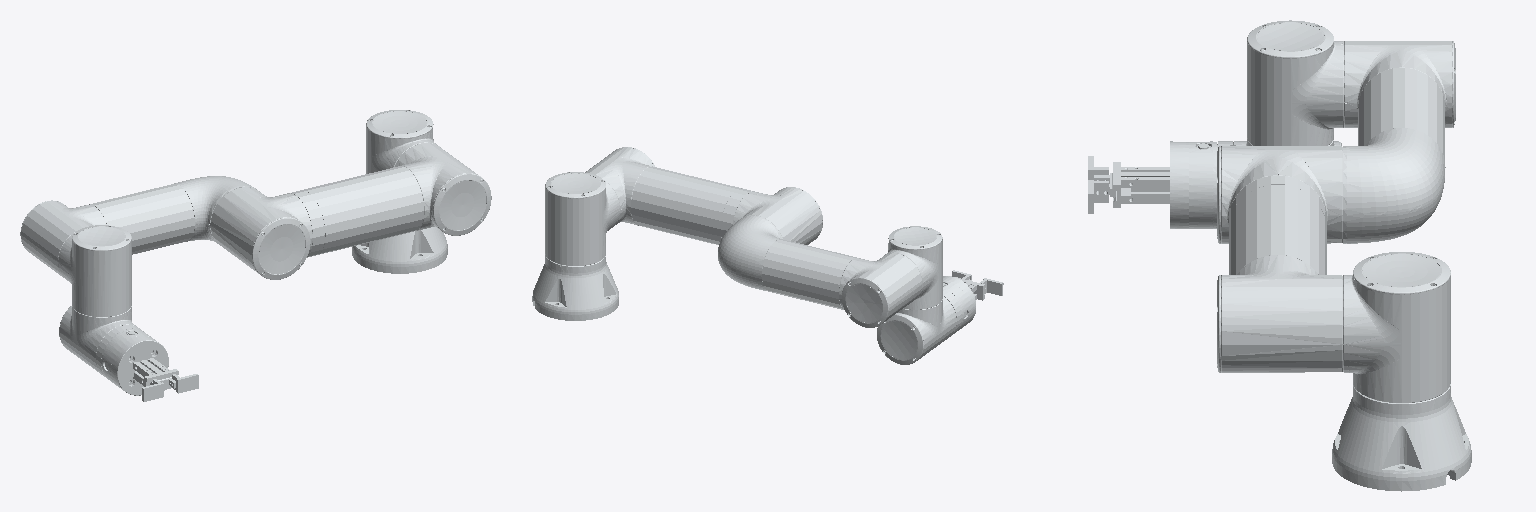
robot.urdf — fairino3_v6_robot:
<?xml version="1.0" encoding="utf-8"?>
<robot
  name="fairino3_v6_robot">
  
  <link name="world" />
  <joint name="world_joint" type="fixed">
    <parent link="world" />
    <child link = "base_link" />
    <origin xyz="0.0 0.0 0.0" rpy="0.0 0.0 0" />
  </joint>

  <link
    name="base_link">
    <inertial>
      <origin
        xyz="-0.00049027 -0.00045095 0.032527"
        rpy="0 0 0" />
      <mass
        value="0.78393" />
      <inertia
        ixx="0.0013854"
        ixy="1.1455E-05"
        ixz="-1.0642E-05"
        iyy="0.0013849"
        iyz="-9.7435E-06"
        izz="0.001977" />
    </inertial>
    <visual>
      <origin
        xyz="0 0 0"
        rpy="0 0 0" />
      <geometry>
        <mesh
          filename="package://fairino_description/meshes/fairino3_v6/base_link.STL" />
      </geometry>
      <material
        name="">
        <color
          rgba="0.89804 0.91765 0.92941 1" />
      </material>
    </visual>
    <collision>
      <origin
        xyz="0 0 0"
        rpy="0 0 0" />
      <geometry>
        <mesh
          filename="package://fairino_description/meshes/fairino3_v6/base_link.STL" />
      </geometry>
    </collision>
  </link>
  <link
    name="shoulder_link">
    <inertial>
      <origin
        xyz="-3.8658E-07 -0.0024176 0.13519"
        rpy="0 0 0" />
      <mass
        value="2.1225" />
      <inertia
        ixx="0.0033227"
        ixy="-5.0648E-08"
        ixz="-6.3401E-09"
        iyy="0.0032419"
        iyz="4.3768E-05"
        izz="0.0023129" />
    </inertial>
    <visual>
      <origin
        xyz="0 0 0"
        rpy="0 0 0" />
      <geometry>
        <mesh
          filename="package://fairino_description/meshes/fairino3_v6/shoulder_link.STL" />
      </geometry>
      <material
        name="">
        <color
          rgba="0.89804 0.91765 0.92941 1" />
      </material>
    </visual>
    <collision>
      <origin
        xyz="0 0 0"
        rpy="0 0 0" />
      <geometry>
        <mesh
          filename="package://fairino_description/meshes/fairino3_v6/shoulder_link.STL" />
      </geometry>
    </collision>
  </link>
  <joint
    name="j1"
    type="revolute">
    <origin
      xyz="0 0 0"
      rpy="0 0 0" />
    <parent
      link="base_link" />
    <child
      link="shoulder_link" />
    <axis
      xyz="0 0 1" />
    <limit
      lower="-3.0543"
      upper="3.0543"
      effort="150"
      velocity="3.15" />
    <calibration
      rising="0"
      falling="0" />
    <dynamics
      damping="0"
      friction="0" />
    <safety_controller
      soft_lower_limit="-3.0543"
      soft_upper_limit="3.0543"
      k_position="15"
      k_velocity="10" />
  </joint>
  <link
    name="upperarm_link">
    <inertial>
      <origin
        xyz="-0.14111 3.4656E-06 0.11053"
        rpy="0 0 0" />
      <mass
        value="4.8053" />
      <inertia
        ixx="0.0075945"
        ixy="3.7143E-07"
        ixz="-7.9228E-12"
        iyy="0.0081317"
        iyz="-1.2918E-11"
        izz="0.0059231" />
    </inertial>
    <visual>
      <origin
        xyz="0 0 0"
        rpy="0 0 0" />
      <geometry>
        <mesh
          filename="package://fairino_description/meshes/fairino3_v6/upperarm_link.STL" />
      </geometry>
      <material
        name="">
        <color
          rgba="0.89804 0.91765 0.92941 1" />
      </material>
    </visual>
    <collision>
      <origin
        xyz="0 0 0"
        rpy="0 0 0" />
      <geometry>
        <mesh
          filename="package://fairino_description/meshes/fairino3_v6/upperarm_link.STL" />
      </geometry>
    </collision>
  </link>
  <joint
    name="j2"
    type="revolute">
    <origin
      xyz="0 0 0.14"
      rpy="1.5708 0 0" />
    <parent
      link="shoulder_link" />
    <child
      link="upperarm_link" />
    <axis
      xyz="0 0 1" />
    <limit
      lower="-4.6251"
      upper="1.4835"
      effort="150"
      velocity="3.15" />
    <!-- <limit
      lower="-1.6"
      upper="0.3"
      effort="150"
      velocity="3.15" /> -->
    <calibration
      rising="0"
      falling="0" />
    <dynamics
      damping="0"
      friction="0" />
    <safety_controller
      soft_lower_limit="-4.6251"
      soft_upper_limit="1.4835"
      k_position="15"
      k_velocity="10" />
  </joint>
  <link
    name="forearm_link">
    <inertial>
      <origin
        xyz="-0.18987 5.2268E-06 0.0034145"
        rpy="0 0 0" />
      <mass
        value="2.2312" />
      <inertia
        ixx="0.0028852"
        ixy="7.3389E-07"
        ixz="-3.5373E-05"
        iyy="0.0035145"
        iyz="-2.8527E-07"
        izz="0.0029186" />
    </inertial>
    <visual>
      <origin
        xyz="0 0 0"
        rpy="0 0 0" />
      <geometry>
        <mesh
          filename="package://fairino_description/meshes/fairino3_v6/forearm_link.STL" />
      </geometry>
      <material
        name="">
        <color
          rgba="0.89804 0.91765 0.92941 1" />
      </material>
    </visual>
    <collision>
      <origin
        xyz="0 0 0"
        rpy="0 0 0" />
      <geometry>
        <mesh
          filename="package://fairino_description/meshes/fairino3_v6/forearm_link.STL" />
      </geometry>
    </collision>
  </link>
  <joint
    name="j3"
    type="revolute">
    <origin
      xyz="-0.28 0 0"
      rpy="0 0 0" />
    <parent
      link="upperarm_link" />
    <child
      link="forearm_link" />
    <axis
      xyz="0 0 1" />
    <limit
      lower="-2.8274"
      upper="2.8274"
      effort="150"
      velocity="3.15" />
    <calibration
      rising="0"
      falling="0" />
    <dynamics
      damping="0"
      friction="0" />
    <safety_controller
      soft_lower_limit="-2.8274"
      soft_upper_limit="2.8274"
      k_position="15"
      k_velocity="10" />
  </joint>
  <link
    name="wrist1_link">
    <inertial>
      <origin
        xyz="4.5665E-07 -0.0034666 0.098292"
        rpy="0 0 0" />
      <mass
        value="1.5961" />
      <inertia
        ixx="0.0020112"
        ixy="6.8085E-09"
        ixz="2.4945E-08"
        iyy="0.0014524"
        iyz="3.2511E-05"
        izz="0.0019076" />
    </inertial>
    <visual>
      <origin
        xyz="0 0 0"
        rpy="0 0 0" />
      <geometry>
        <mesh
          filename="package://fairino_description/meshes/fairino3_v6/wrist1_link.STL" />
      </geometry>
      <material
        name="">
        <color
          rgba="0.89804 0.91765 0.92941 1" />
      </material>
    </visual>
    <collision>
      <origin
        xyz="0 0 0"
        rpy="0 0 0" />
      <geometry>
        <mesh
          filename="package://fairino_description/meshes/fairino3_v6/wrist1_link.STL" />
      </geometry>
    </collision>
  </link>
  <joint
    name="j4"
    type="revolute">
    <origin
      xyz="-0.24001 0 0"
      rpy="0 0 0" />
    <parent
      link="forearm_link" />
    <child
      link="wrist1_link" />
    <axis
      xyz="0 0 1" />
    <limit
      lower="-4.6251"
      upper="1.4835"
      effort="28"
      velocity="3.2" />
    <!-- <limit
      lower="-1.8"
      upper="1.835"
      effort="28"
      velocity="3.2" /> -->
    <calibration
      rising="0"
      falling="0" />
    <dynamics
      damping="0"
      friction="0" />
    <safety_controller
      soft_lower_limit="-4.6251"
      soft_upper_limit="1.4835"
      k_position="15"
      k_velocity="10" />
  </joint>
  <link
    name="wrist2_link">
    <inertial>
      <origin
        xyz="-4.5262E-07 0.0034666 0.098292"
        rpy="0 0 0" />
      <mass
        value="1.5961" />
      <inertia
        ixx="0.0020112"
        ixy="6.8086E-09"
        ixz="-2.4945E-08"
        iyy="0.0014524"
        iyz="-3.2511E-05"
        izz="0.0019076" />
    </inertial>
    <visual>
      <origin
        xyz="0 0 0"
        rpy="0 0 0" />
      <geometry>
        <mesh
          filename="package://fairino_description/meshes/fairino3_v6/wrist2_link.STL" />
      </geometry>
      <material
        name="">
        <color
          rgba="0.89804 0.91765 0.92941 1" />
      </material>
    </visual>
    <collision>
      <origin
        xyz="0 0 0"
        rpy="0 0 0" />
      <geometry>
        <mesh
          filename="package://fairino_description/meshes/fairino3_v6/wrist2_link.STL" />
      </geometry>
    </collision>
  </link>
  <joint
    name="j5"
    type="revolute">
    <origin
      xyz="0 0 0.102"
      rpy="1.5708 0 0" />
    <parent
      link="wrist1_link" />
    <child
      link="wrist2_link" />
    <axis
      xyz="0 0 1" />
    <limit
      lower="-3.0543"
      upper="3.0543"
      effort="28"
      velocity="3.2" />
    <calibration
      rising="0"
      falling="0" />
    <dynamics
      damping="0"
      friction="0" />
    <safety_controller
      soft_lower_limit="-3.0543"
      soft_upper_limit="3.0543"
      k_position="15"
      k_velocity="10" />
  </joint>
  <link
    name="wrist3_link">
    <inertial>
      <origin
        xyz="7.559E-05 1.3858E-05 0.076619"
        rpy="0 0 0" />
      <mass
        value="0.53877" />
      <inertia
        ixx="0.00028785"
        ixy="-2.0584E-09"
        ixz="-1.3892E-07"
        iyy="0.00028896"
        iyz="1.8115E-07"
        izz="0.00042655" />
    </inertial>
    <visual>
      <origin
        xyz="0 0 0"
        rpy="0 0 0" />
      <geometry>
        <mesh
          filename="package://fairino_description/meshes/fairino3_v6/wrist3_link.STL" />
      </geometry>
      <material
        name="">
        <color
          rgba="0.89804 0.91765 0.92941 1" />
      </material>
    </visual>
    <collision>
      <origin
        xyz="0 0 0"
        rpy="0 0 0" />
      <geometry>
        <mesh
          filename="package://fairino_description/meshes/fairino3_v6/wrist3_link.STL" />
      </geometry>
    </collision>
  </link>
  <joint
    name="j6"
    type="revolute">
    <origin
      xyz="0 0 0.102"
      rpy="-1.5708 0 0" />
    <parent
      link="wrist2_link" />
    <child
      link="wrist3_link" />
    <axis
      xyz="0 0 1" />
    <limit
      lower="-3.0543"
      upper="3.0543"
      effort="28"
      velocity="3.2" />
    <calibration
      rising="0"
      falling="0" />
    <dynamics
      damping="0"
      friction="0" />
    <safety_controller
      soft_lower_limit="-3.0543"
      soft_upper_limit="3.0543"
      k_position="15"
      k_velocity="10" />
  </joint>

  <link name="tool0"/>

  <joint name="tool0_fixed_joint" type="fixed">
    <parent link="wrist3_link"/>
    <child link="tool0"/>
    <!-- offset 5 cm along flange Z+ direction -->
    <origin xyz="0 0 0.1" rpy="0 0 0"/>
  </joint>

</robot>

--- Render facts (derived) ---
3 views of the same robot in one strip: view 1: azimuth 30°, elevation 25°; view 2: azimuth 150°, elevation 25°; view 3: azimuth 270°, elevation 25° (orthographic).
Robot: fairino3_v6_robot — 9 links, 8 joints (6 revolute, 2 fixed); root link world; default pose: every joint at zero.
Visible links, largest first — view 1: upperarm_link, forearm_link, wrist1_link, wrist3_link, base_link, shoulder_link, wrist2_link; view 2: forearm_link, upperarm_link, shoulder_link, base_link, wrist2_link, wrist1_link, wrist3_link; view 3: upperarm_link, forearm_link, shoulder_link, wrist1_link, base_link, wrist3_link.
Boxes of the visible links, x1,y1,x2,y2 form: upperarm_link: (210, 143, 491, 279); forearm_link: (20, 176, 259, 277); wrist1_link: (58, 225, 131, 316); wrist3_link: (96, 325, 198, 401); base_link: (352, 227, 447, 273); shoulder_link: (366, 110, 439, 173); wrist2_link: (59, 306, 136, 374); forearm_link: (718, 215, 921, 327); upperarm_link: (585, 147, 822, 244); shoulder_link: (545, 172, 619, 265); base_link: (532, 254, 618, 320); wrist2_link: (877, 296, 956, 364); wrist1_link: (884, 226, 942, 309); wrist3_link: (943, 270, 1003, 335); upperarm_link: (1217, 146, 1342, 372); forearm_link: (1343, 41, 1455, 243); shoulder_link: (1343, 252, 1450, 402); wrist1_link: (1247, 20, 1343, 145); base_link: (1332, 384, 1471, 491); wrist3_link: (1088, 141, 1232, 228).
Size in the robot's own frame: 0.6266 by 0.3518 by 0.196 metres.
7 mesh visuals loaded from 7 distinct referenced files (7 binary STL).
